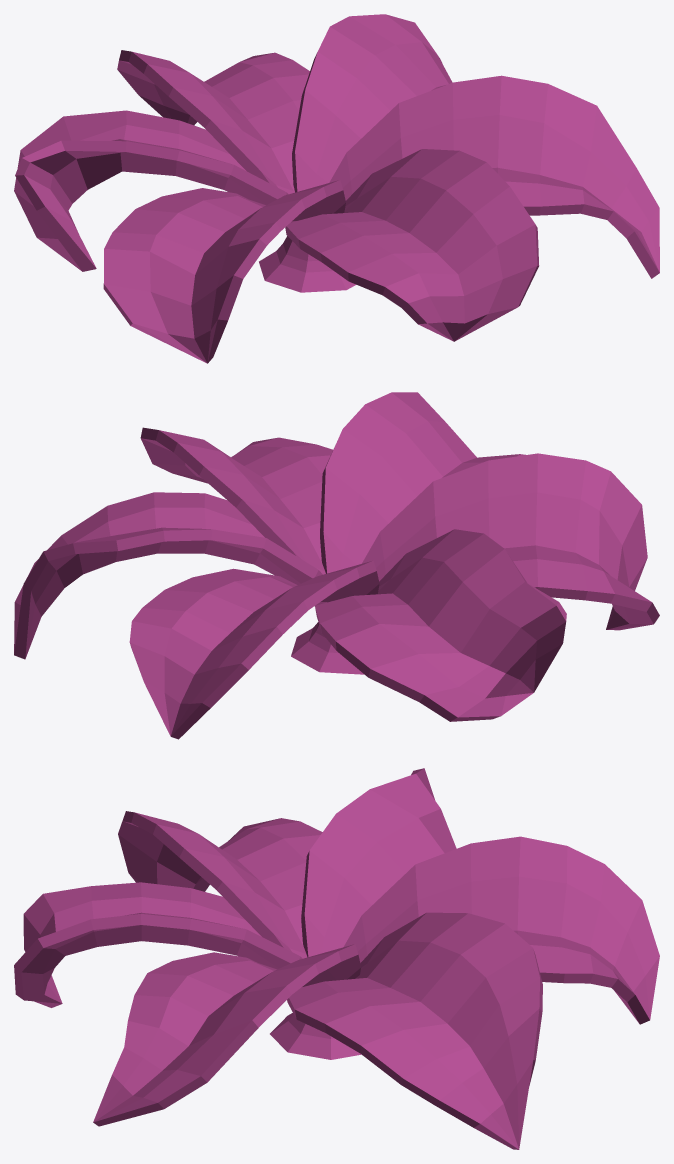
The model's file is SM_PolypLeaves.fbx.
3 renders of one model, top to bottom at view 1: azimuth 30°, elevation 25°; view 2: azimuth 150°, elevation 25°; view 3: azimuth 270°, elevation 25°, orthographic. The views are drawn at different scales.
Parts seen in each view (by area): view 1: SM_BlankPolyp; view 2: SM_BlankPolyp; view 3: SM_BlankPolyp.
Part boxes in pixels (x1,y1,x2,y2): SM_BlankPolyp: (14,14,659,363); SM_BlankPolyp: (14,392,659,739); SM_BlankPolyp: (14,768,659,1149).
Size of the model in its own units: 128 by 36.88 by 135.
